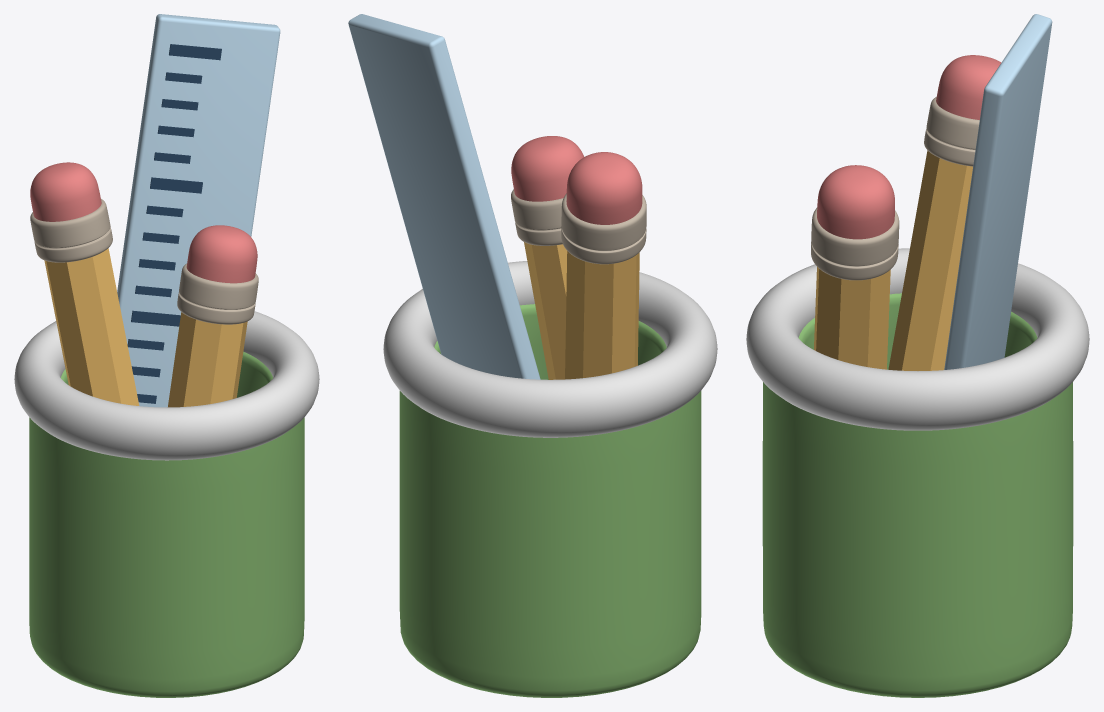
File: PortaPenne.glb
3 renders of one model, left to right at view 1: azimuth 30°, elevation 25°; view 2: azimuth 150°, elevation 25°; view 3: azimuth 270°, elevation 25°, orthographic. The views are drawn at different scales.
Visible parts, largest first — view 1: Corpo.002, Righello, Top, Corpo, Corpo.001, Righe, Gomma, Gomma.001, Ghiera.001, Ghiera; view 2: Corpo.002, Righello, Top, Corpo, Gomma, Corpo.001, Gomma.001, Ghiera, Ghiera.001; view 3: Corpo.002, Top, Righello, Corpo, Corpo.001, Gomma.001, Ghiera.001, Gomma, Ghiera.
Boxes of the visible parts, box(x1,y1,x2,y2) form: Corpo.002: box(29, 351, 304, 697); Righello: box(117, 14, 280, 407); Top: box(14, 311, 319, 460); Corpo: box(44, 248, 139, 405); Corpo.001: box(168, 312, 247, 407); Righe: box(127, 44, 221, 403); Gomma: box(30, 162, 101, 221); Gomma.001: box(186, 225, 257, 283); Ghiera.001: box(177, 263, 258, 324); Ghiera: box(30, 199, 112, 262); Corpo.002: box(399, 304, 701, 697); Righello: box(348, 14, 540, 379); Top: box(383, 261, 717, 437); Corpo: box(565, 251, 639, 379); Gomma: box(566, 152, 642, 224); Corpo.001: box(524, 242, 567, 379); Gomma.001: box(511, 136, 583, 201); Ghiera: box(561, 193, 646, 264); Ghiera.001: box(511, 189, 563, 245); Corpo.002: box(762, 293, 1073, 697); Top: box(746, 248, 1089, 430); Righello: box(944, 14, 1052, 369); Corpo: box(888, 150, 972, 370); Corpo.001: box(814, 267, 890, 369); Gomma.001: box(817, 165, 894, 239); Ghiera.001: box(811, 207, 899, 280); Gomma: box(936, 55, 1001, 119); Ghiera: box(924, 97, 979, 166).
Bounding box in the file's own units: 1.27 × 2.52 × 1.2.
